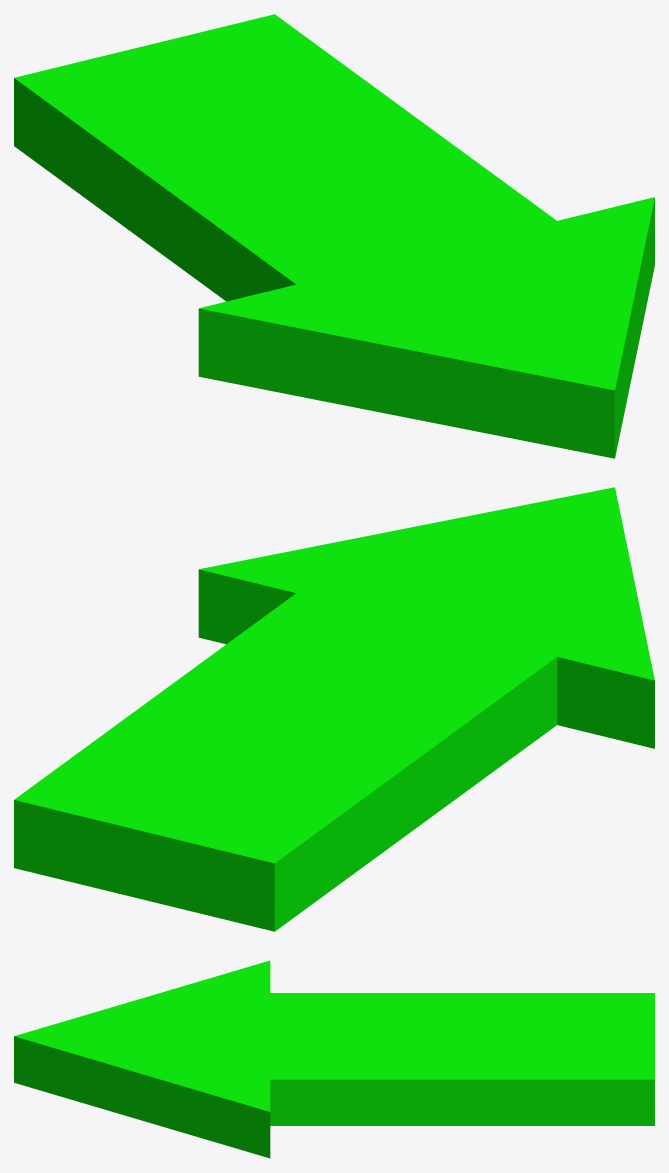
The model's file is Arrow3D.fbx.
The picture shows the model from 3 angles, top to bottom: view 1: azimuth 30°, elevation 25°; view 2: azimuth 150°, elevation 25°; view 3: azimuth 270°, elevation 25°; orthographic projection. The views are drawn at different scales.
Parts seen in each view (by area): view 1: color; view 2: color; view 3: color.
Part boxes in pixels (<box>): color: <box>14,14,654,458</box>; color: <box>14,487,654,931</box>; color: <box>14,960,654,1158</box>.
Size of the model in its own units: 2.8 by 0.4 by 5.
